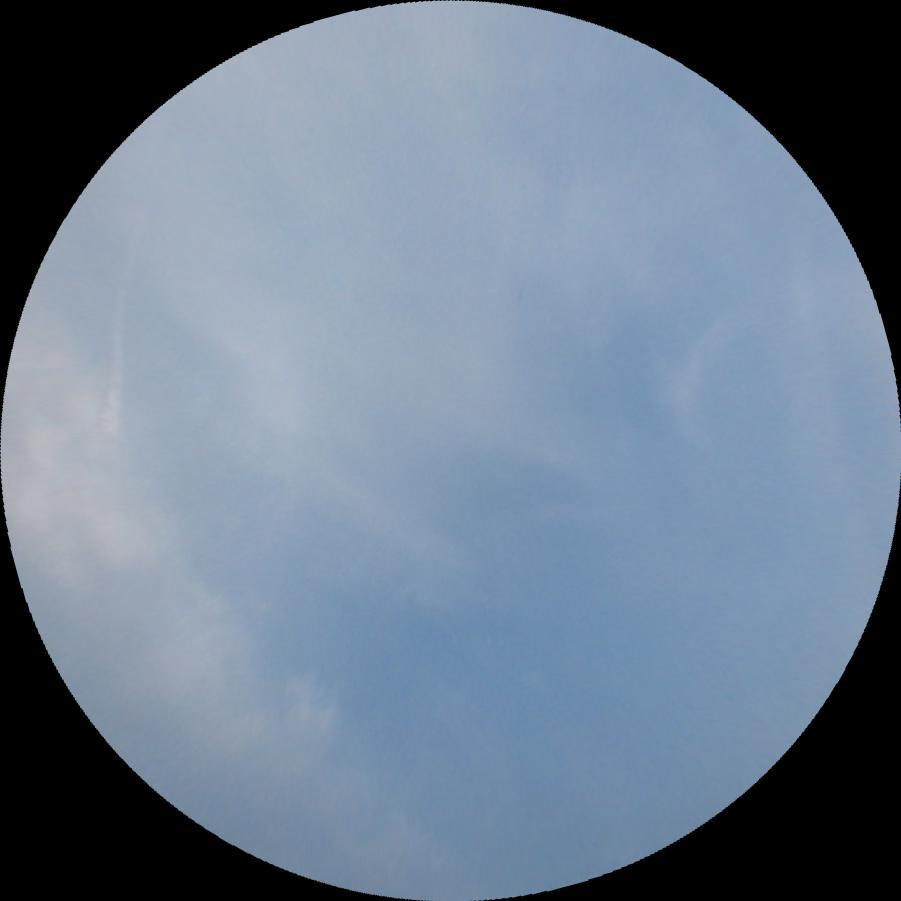contrail veryold: (98, 200, 148, 427)
